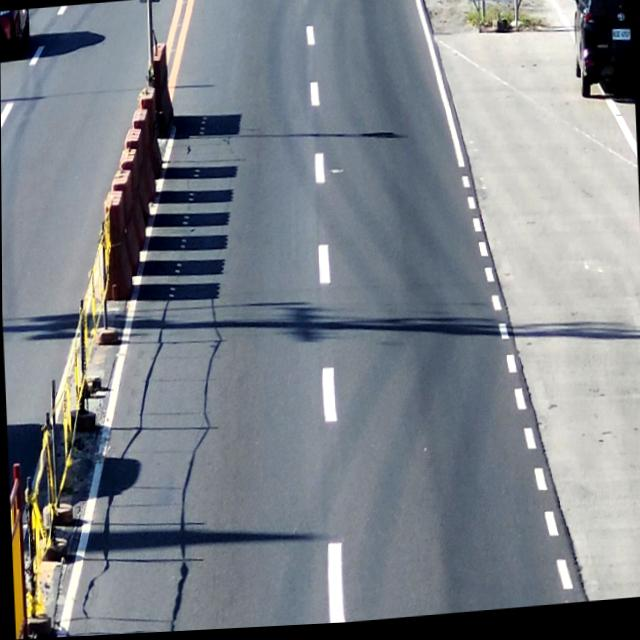Car: (566, 0, 634, 101)
License-Plate: (611, 33, 632, 51)
